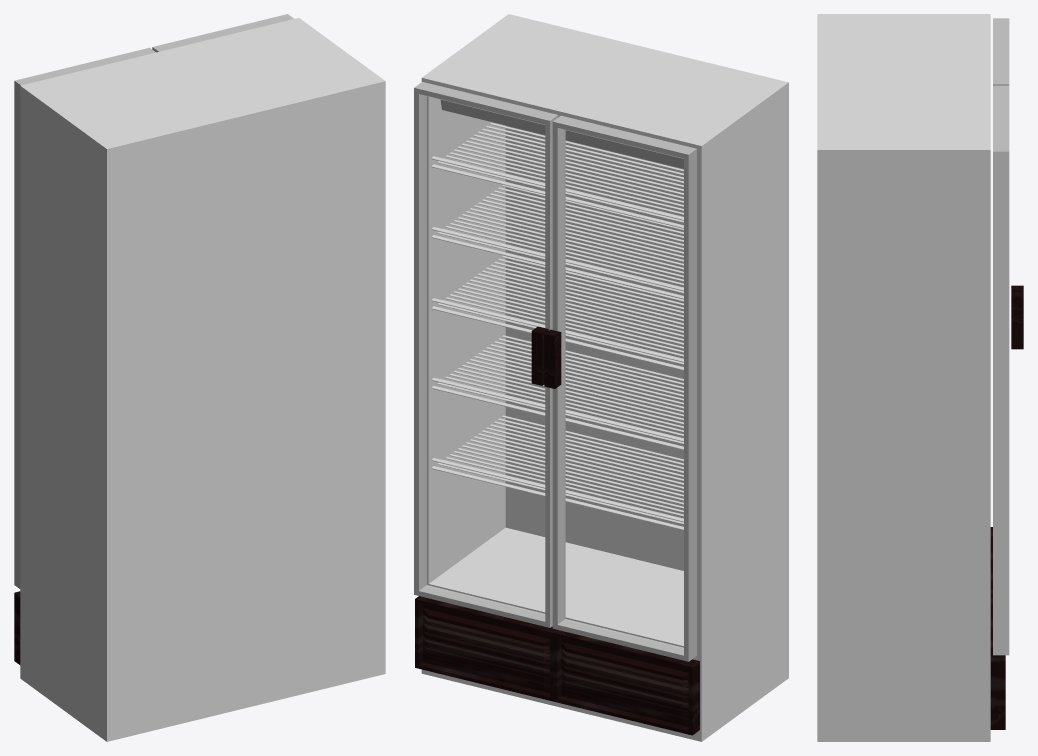
File: frigider.fbx
3 renders of one model, left to right at view 1: azimuth 30°, elevation 25°; view 2: azimuth 150°, elevation 25°; view 3: azimuth 270°, elevation 25°, orthographic.
Visible parts, largest first — view 1: stativ, usa 1.003, usa 1; view 2: stativ, usa 1.003, usa 1, m2, vent, Cylinder.015, Cylinder.009, Cylinder.006, Cylinder.012, Cylinder.001, Cube.015, Cylinder.002 (+10 smaller); view 3: stativ, usa 1, vent, usa 1.003, m1.
Part boxes in pixels (x1,y1,x2,y2): stativ: (20,18,385,741); usa 1.003: (14,47,155,588); usa 1: (152,14,293,52); stativ: (421,14,788,741); usa 1.003: (552,115,696,661); usa 1: (414,82,558,627); m2: (553,630,699,735); vent: (415,596,557,701); Cylinder.015: (437,415,683,524); Cylinder.009: (437,255,683,364); Cylinder.006: (437,185,683,293); Cylinder.012: (437,335,683,444); Cylinder.001: (437,122,683,222); Cube.015: (544,329,561,388); Cylinder.002: (431,164,683,228); stativ: (817,14,990,741); usa 1: (993,85,1009,655); vent: (990,594,1005,729); usa 1.003: (993,18,1009,85); m1: (1011,292,1023,349).
Bounding box in the file's own units: 147 × 300 × 94.64.
